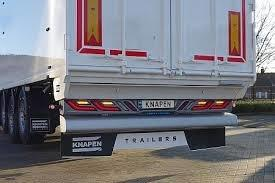license-plates: (142, 100, 175, 109)
